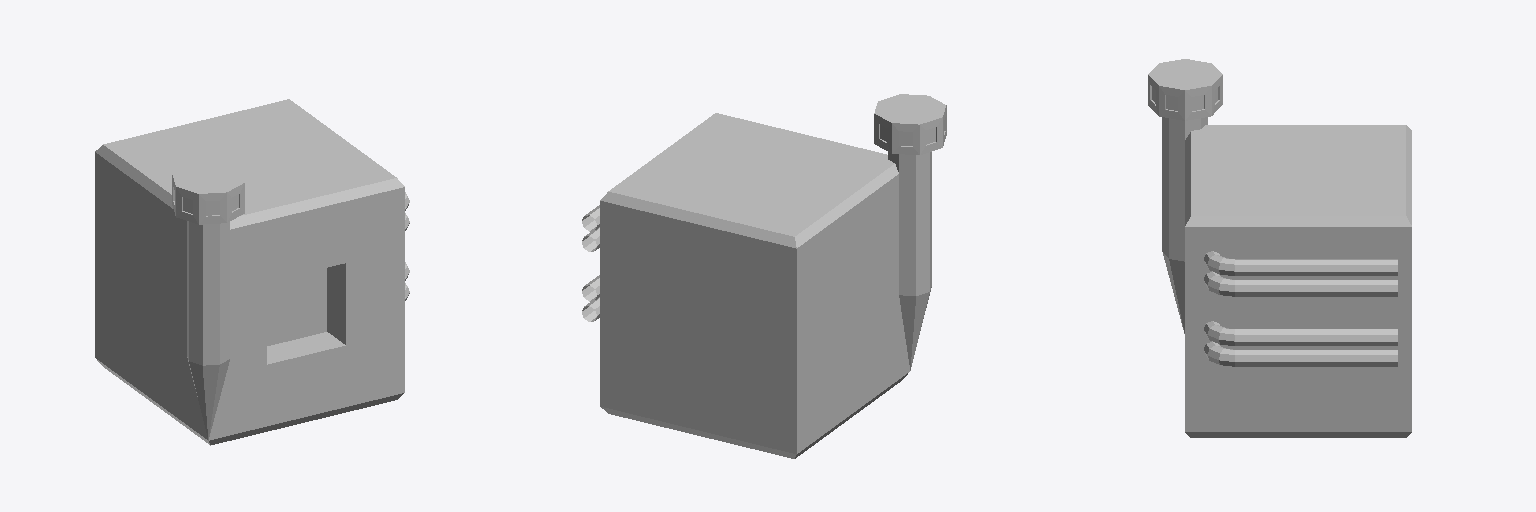
The model's file is GenGazPurge.obj.
3 renders of one model, left to right at view 1: azimuth 30°, elevation 25°; view 2: azimuth 150°, elevation 25°; view 3: azimuth 270°, elevation 25°, orthographic.
Parts seen in each view (by area): view 1: GeneralGazPurge_Cube.008; view 2: GeneralGazPurge_Cube.008; view 3: GeneralGazPurge_Cube.008.
Boxes of the visible parts, box(x1,y1,x2,y2) form: GeneralGazPurge_Cube.008: box(95, 99, 409, 445); GeneralGazPurge_Cube.008: box(582, 94, 946, 458); GeneralGazPurge_Cube.008: box(1148, 59, 1411, 437).
Size of the model in its own units: 0.6477 by 0.6567 by 0.5824.